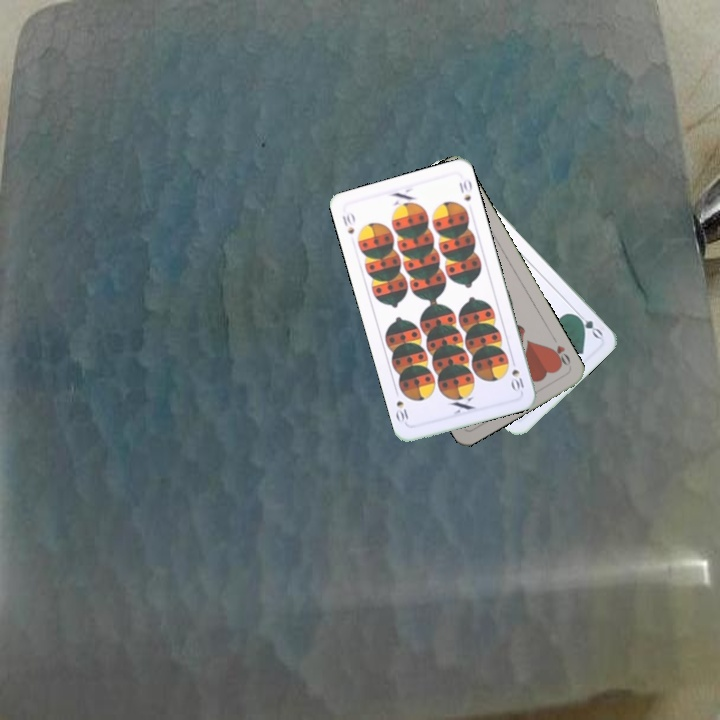GO: (570, 307, 605, 341)
HO: (546, 341, 573, 370)
S10: (508, 354, 526, 395), (338, 208, 357, 236)
